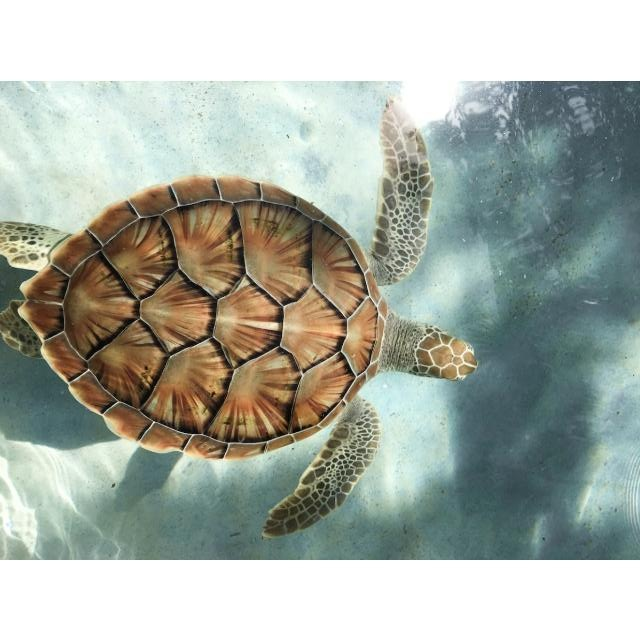turtle: (3, 98, 479, 538)
